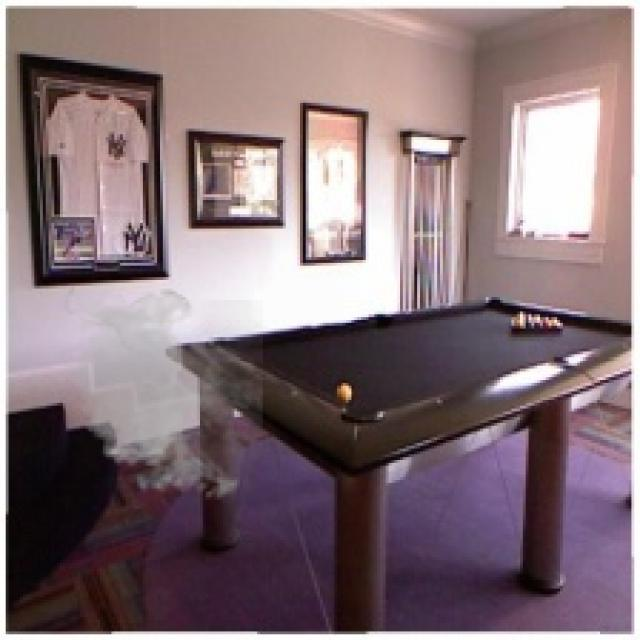smoke: (57, 286, 263, 506)
